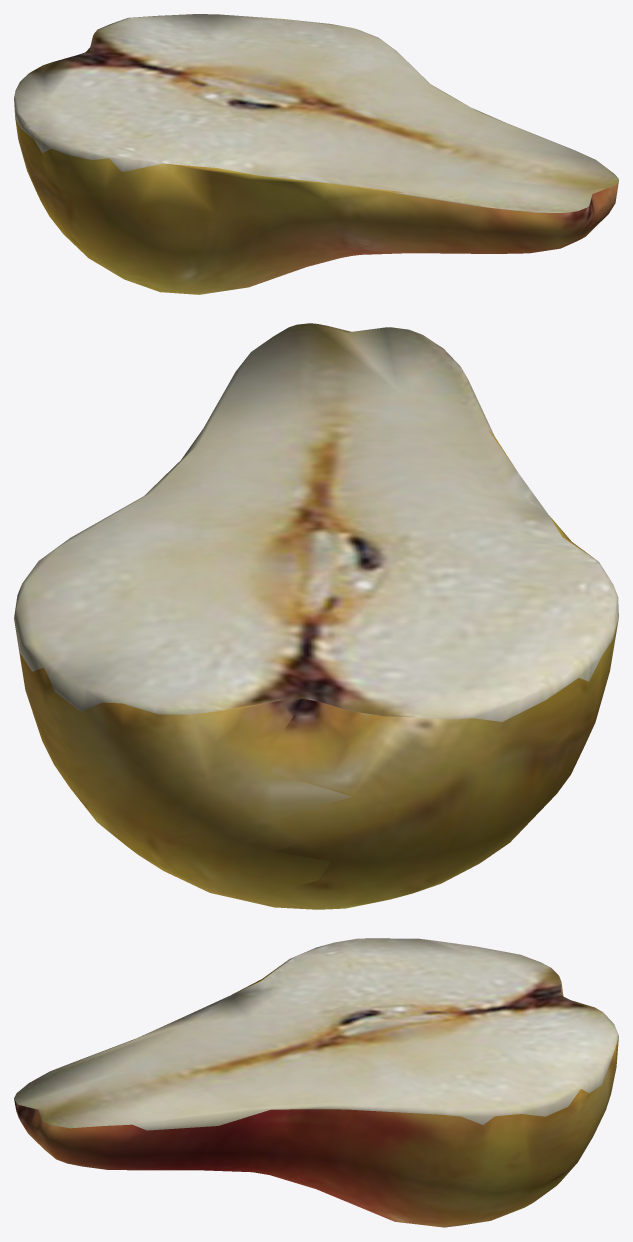
Rendered from pear_half.fbx.
3 renders of one model, top to bottom at view 1: azimuth 30°, elevation 25°; view 2: azimuth 150°, elevation 25°; view 3: azimuth 270°, elevation 25°, orthographic. The views are drawn at different scales.
Visible parts, largest first — view 1: Pear_cut.002; view 2: Pear_cut.002; view 3: Pear_cut.002.
Boxes of the visible parts, <box> form: Pear_cut.002: <box>14,14,618,294</box>; Pear_cut.002: <box>14,323,618,909</box>; Pear_cut.002: <box>14,938,618,1227</box>.
Bounding box in the file's own units: 8.43 × 4.09 × 11.51.
2 materials, 2 textured.
